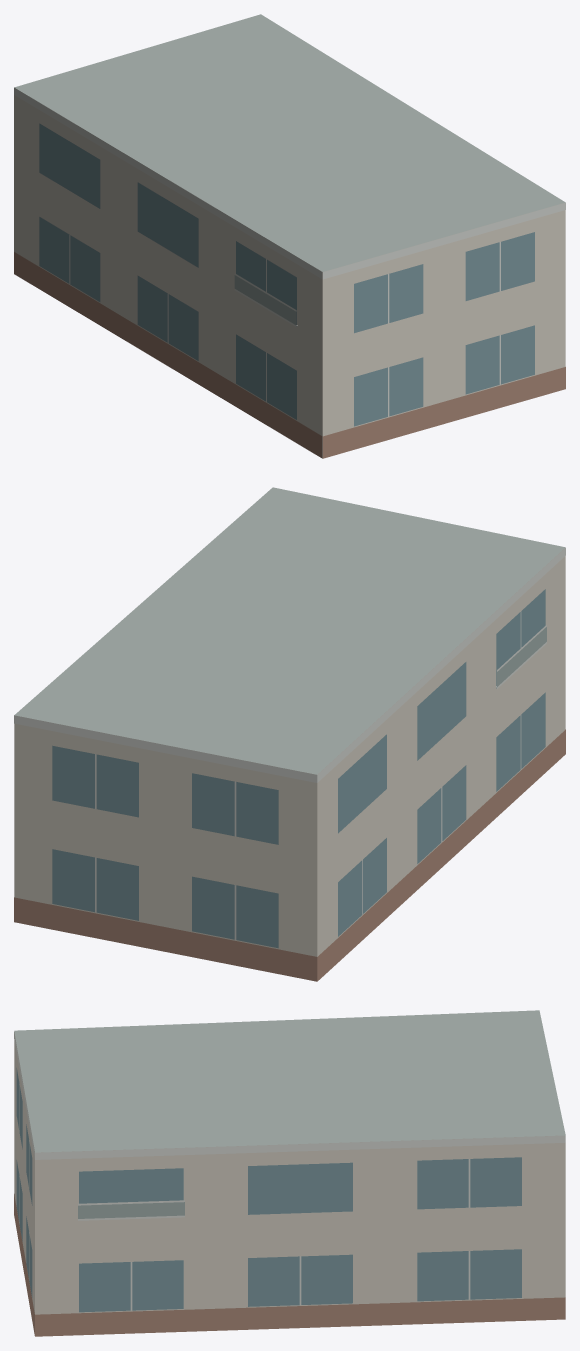
The model's file is survey-upis-32607829.glb.
The picture shows the model from 3 angles, top to bottom: view 1: azimuth 30°, elevation 25°; view 2: azimuth 150°, elevation 25°; view 3: azimuth 270°, elevation 25°; orthographic projection. The views are drawn at different scales.
Parts seen in each view (by area): view 1: survey-upis-32607829.tmp; view 2: survey-upis-32607829.tmp; view 3: survey-upis-32607829.tmp.
Part boxes in pixels (x1,y1,x2,y2): survey-upis-32607829.tmp: (14,14,565,458); survey-upis-32607829.tmp: (14,487,565,981); survey-upis-32607829.tmp: (14,1010,565,1336).
Size of the model in its own units: 10.13 by 6.1 by 16.59.
